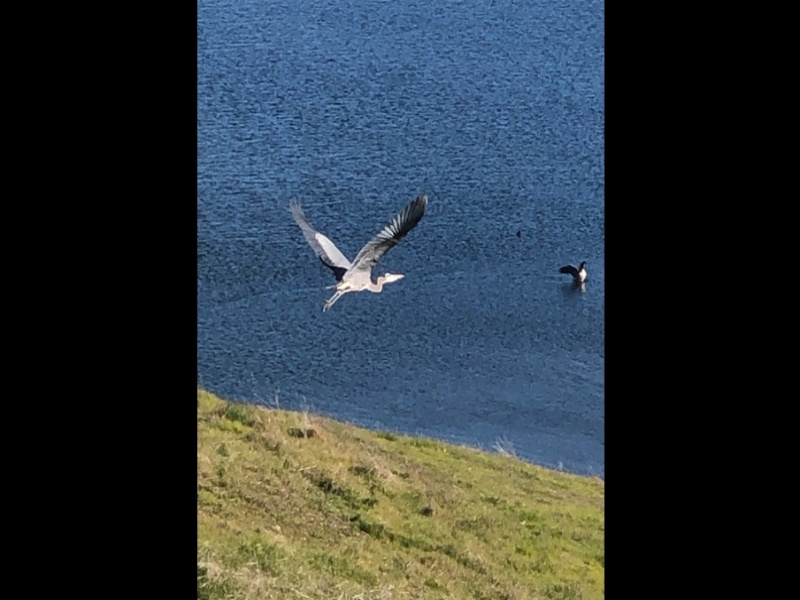heron: (288, 196, 429, 313)
